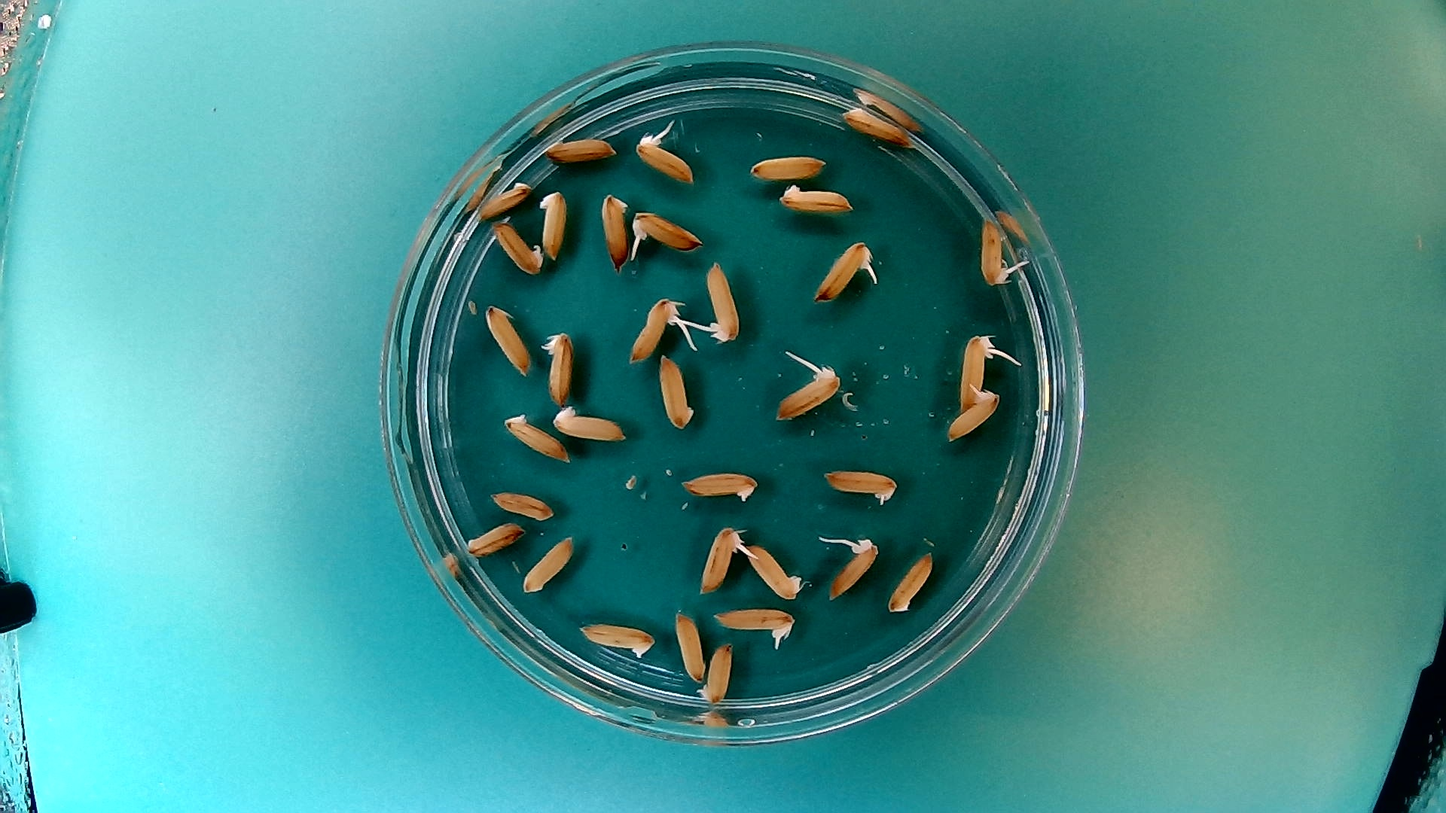no: (500, 410, 571, 466), (484, 300, 532, 379), (520, 532, 577, 595), (837, 104, 913, 149), (746, 543, 804, 601), (677, 465, 759, 505), (576, 619, 657, 659), (886, 550, 936, 614), (657, 352, 696, 434), (775, 181, 856, 218), (551, 403, 629, 440), (599, 188, 632, 271), (695, 641, 736, 706), (476, 176, 534, 220), (746, 151, 830, 181), (673, 607, 706, 682), (463, 518, 526, 556), (542, 135, 619, 166), (538, 187, 569, 263), (489, 487, 555, 522)
yes: (771, 351, 846, 425), (827, 530, 880, 603), (627, 294, 683, 362), (701, 257, 743, 346), (813, 238, 873, 300), (694, 525, 746, 596), (941, 385, 1002, 445), (627, 206, 704, 253), (820, 464, 900, 507), (977, 212, 1022, 288), (956, 338, 1003, 410), (711, 604, 799, 641), (489, 218, 544, 276), (537, 325, 575, 407), (633, 136, 694, 185)
